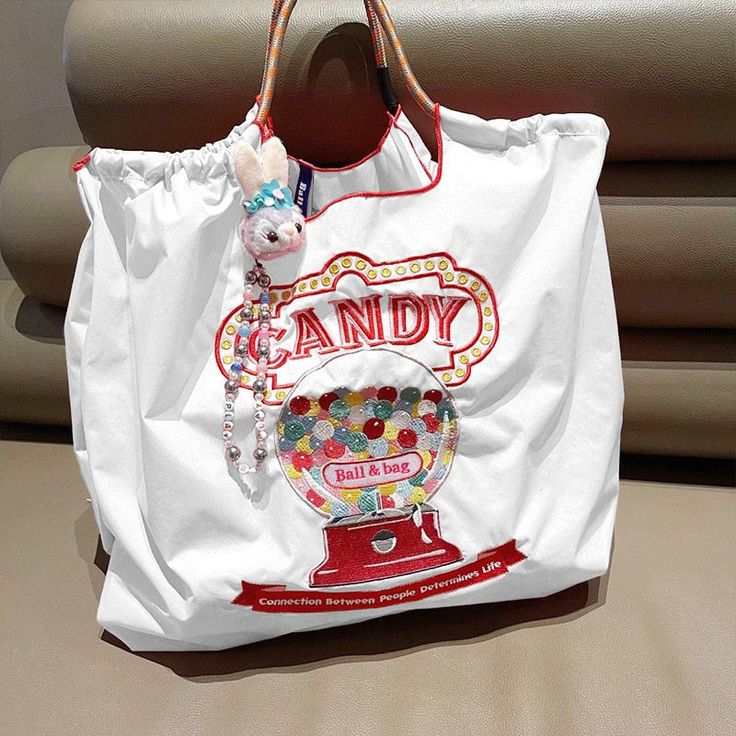nylon: (62, 103, 626, 653)
